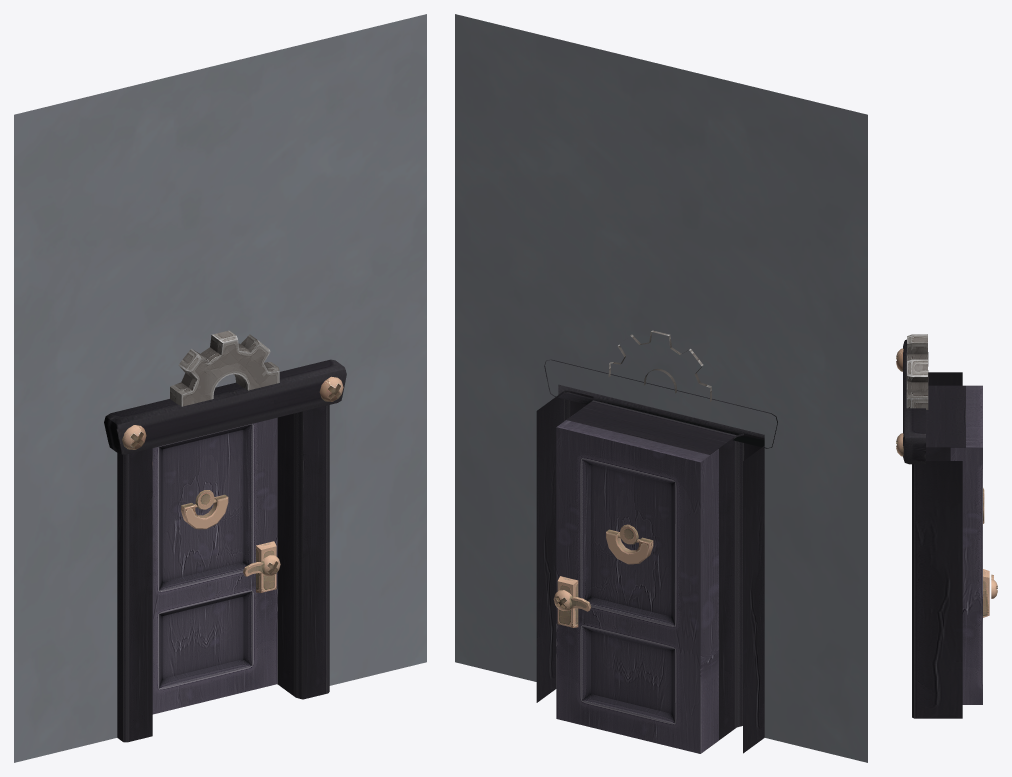
File: Ev_company_inner_doorwall.fbx
3 renders of one model, left to right at view 1: azimuth 30°, elevation 25°; view 2: azimuth 150°, elevation 25°; view 3: azimuth 270°, elevation 25°, orthographic. The views are drawn at different scales.
Parts seen in each view (by area): view 1: Ev_company_inner_door_wall, Ev_company_inner_door; view 2: Ev_company_inner_door_wall, Ev_company_inner_door; view 3: Ev_company_inner_door_wall, Ev_company_inner_door.
Part boxes in pixels (x1,y1,x2,y2): Ev_company_inner_door_wall: (14,14,426,762); Ev_company_inner_door: (152,417,280,714); Ev_company_inner_door_wall: (455,14,867,762); Ev_company_inner_door: (553,420,718,753); Ev_company_inner_door_wall: (896,334,965,718); Ev_company_inner_door: (950,385,997,704).
Size of the model in its own units: 200 by 300 by 48.45.
